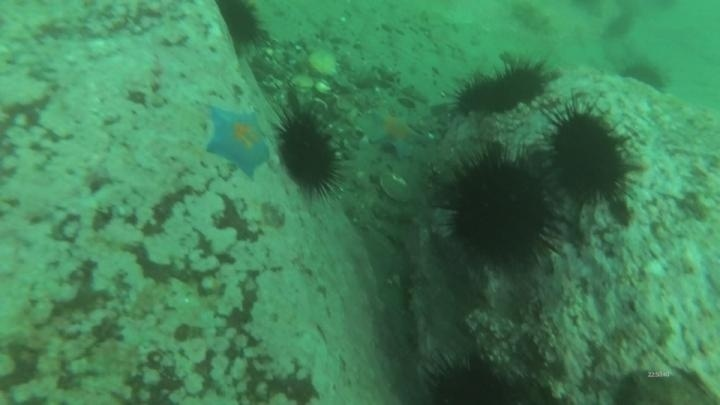echinus: (441, 149, 562, 273), (542, 105, 637, 207), (272, 110, 344, 198), (451, 60, 550, 117), (421, 350, 516, 404), (450, 74, 518, 117), (213, 1, 265, 50), (619, 58, 671, 94)
holothurian: (506, 2, 554, 35)
starfish: (203, 105, 272, 179), (360, 107, 429, 161)
